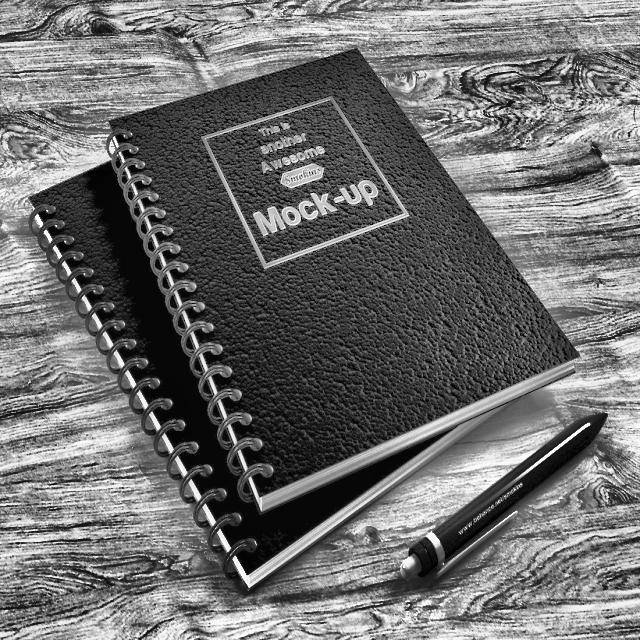Notebook: (7, 18, 600, 607)
